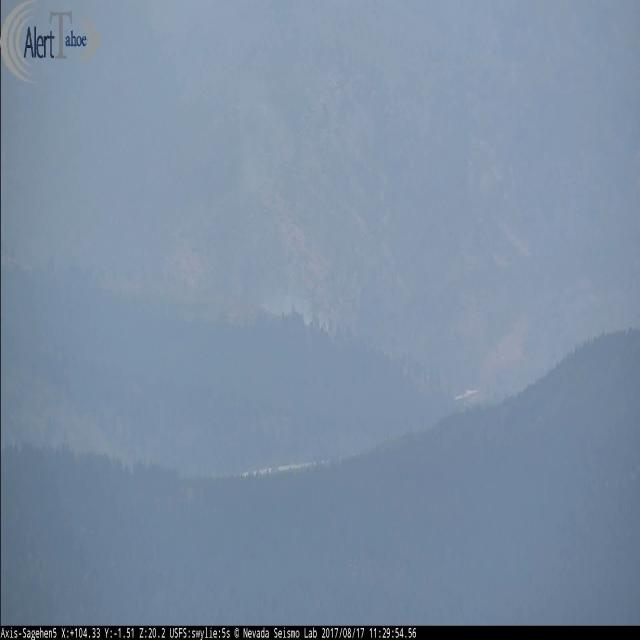smoke: (264, 286, 333, 341)
